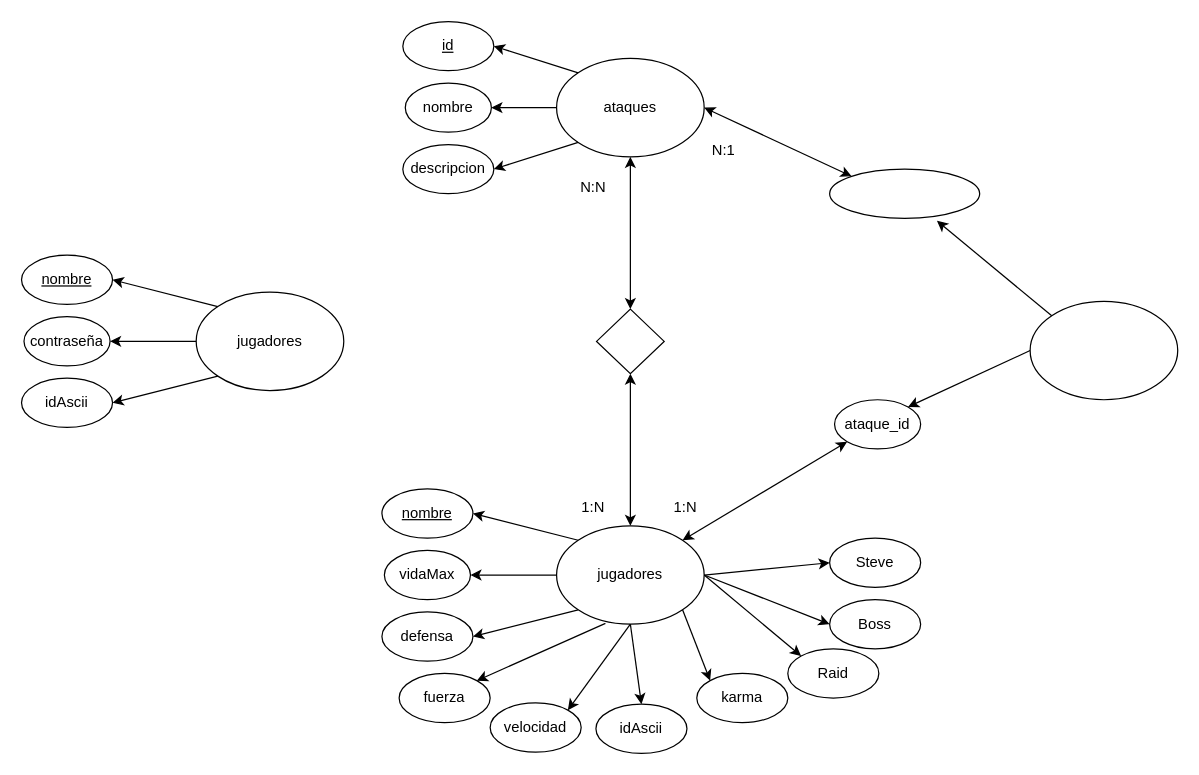
Image size: 1199x775. Some labels were removed from this diagram. The box of each missing label's shape, as (x1, y1, x2, y2) in pixels:
personaje_nombre: (828, 168, 980, 218)
relacion_ataques: (1029, 300, 1178, 400)
Tiene: (595, 308, 664, 374)
